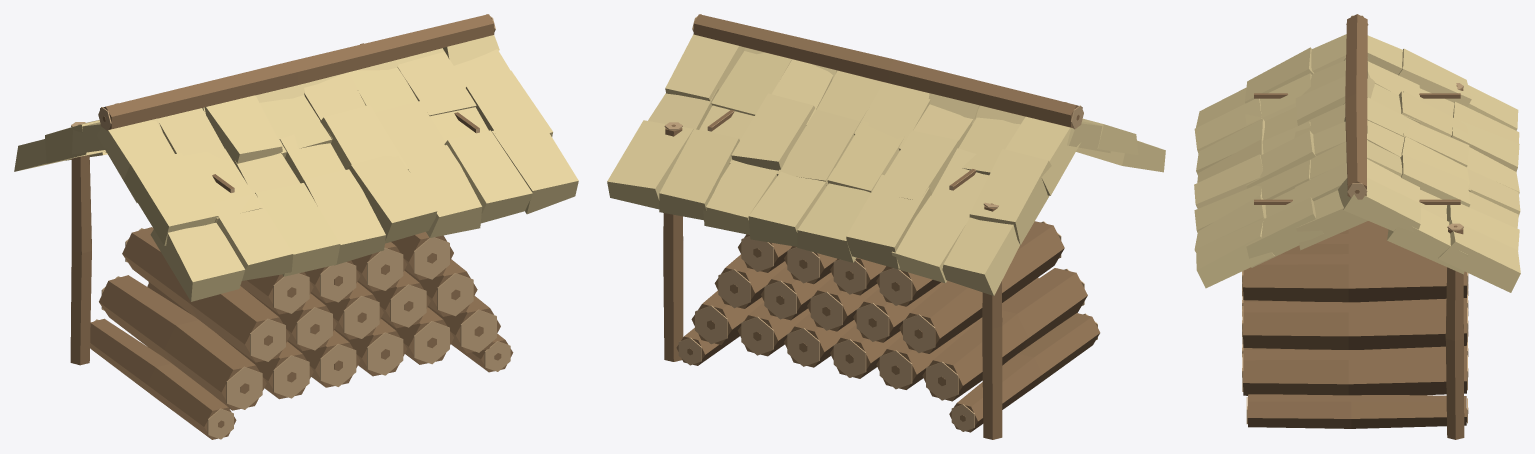
The model's file is yard_woodpile.glb.
3 renders of one model, left to right at view 1: azimuth 30°, elevation 25°; view 2: azimuth 150°, elevation 25°; view 3: azimuth 270°, elevation 25°, orthographic. The views are drawn at different scales.
Parts seen in each view (by area): view 1: yard_woodpile; view 2: yard_woodpile; view 3: yard_woodpile.
Boxes of the visible parts, x1=… form: yard_woodpile: x1=14, y1=14, x2=578, y2=439; yard_woodpile: x1=607, y1=14, x2=1165, y2=439; yard_woodpile: x1=1194, y1=14, x2=1520, y2=439.
Bounding box in the file's own units: 1.84 × 1.36 × 1.49.
